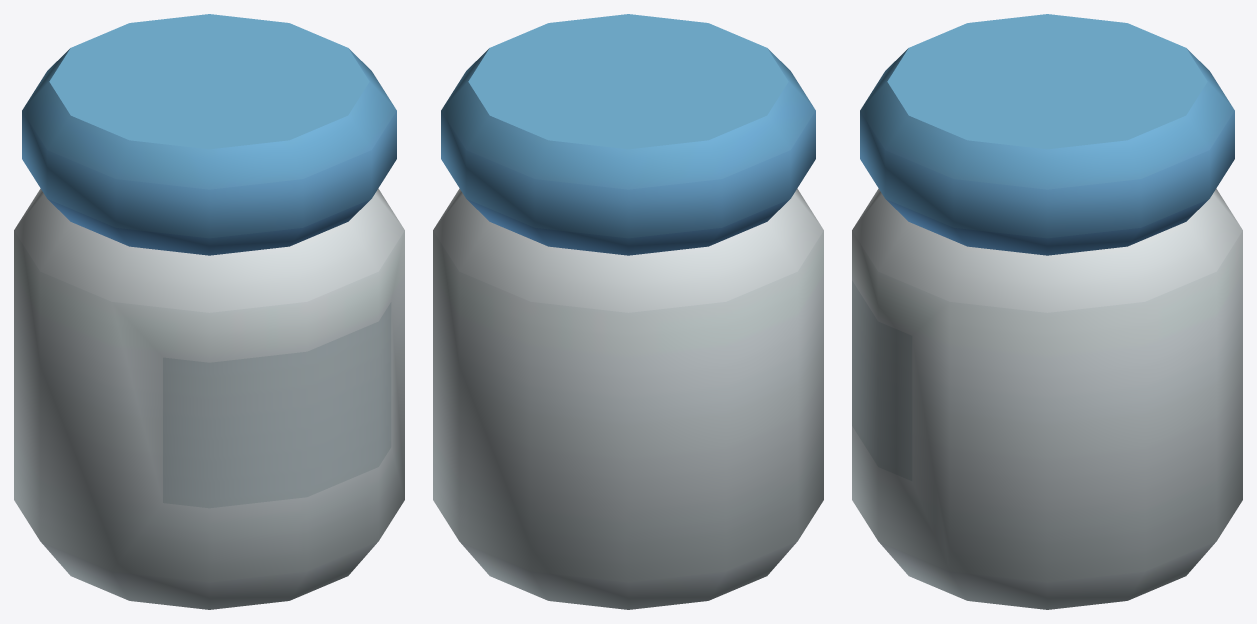
Rendered from jar.glb.
3 renders of one model, left to right at view 1: azimuth 30°, elevation 25°; view 2: azimuth 150°, elevation 25°; view 3: azimuth 270°, elevation 25°, orthographic.
Visible parts, largest first — view 1: jar_A_medium; view 2: jar_A_medium; view 3: jar_A_medium.
Boxes of the visible parts, left/top/right/bottom form: jar_A_medium: left=14, top=14, right=404, bottom=609; jar_A_medium: left=433, top=14, right=823, bottom=609; jar_A_medium: left=852, top=14, right=1242, bottom=609.
Bounding box in the file's own units: 0.1385 × 0.18 × 0.1385.
1 material, 1 textured.
